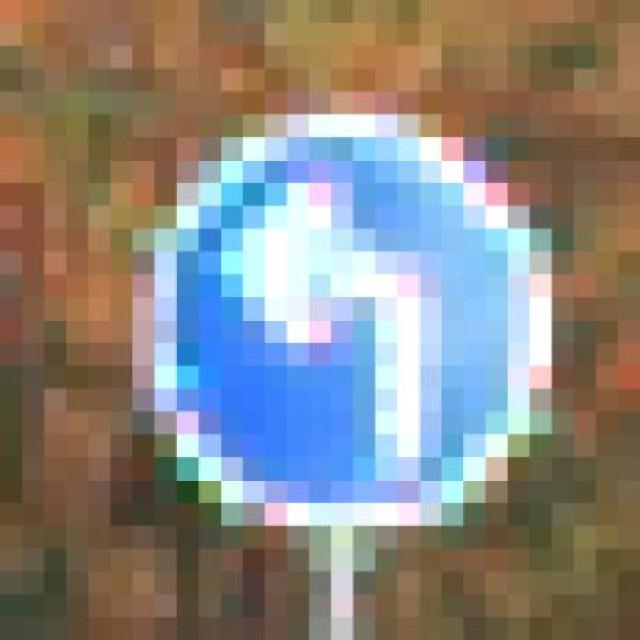Turn left ahead: (128, 68, 569, 570)
